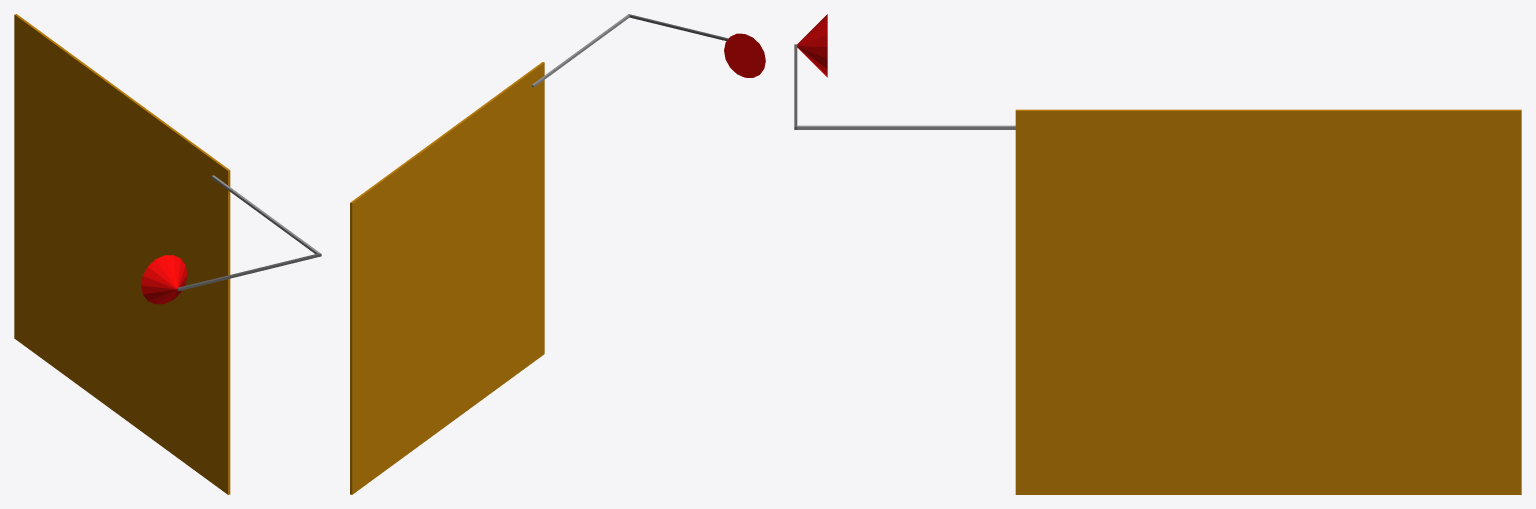
The model's file is DRC-TESTBED-SHOWER-BODYSET9_link_mesh.dae.
The picture shows the model from 3 angles, left to right: view 1: azimuth 30°, elevation 25°; view 2: azimuth 150°, elevation 25°; view 3: azimuth 270°, elevation 25°; orthographic projection. The views are drawn at different scales.
Visible parts, largest first — view 1: DRC-TESTBED-SHOWER-BODYSET9_link (×4); view 2: DRC-TESTBED-SHOWER-BODYSET9_link (×3); view 3: DRC-TESTBED-SHOWER-BODYSET9_link (×3).
Boxes of the visible parts, x1=… form: DRC-TESTBED-SHOWER-BODYSET9_link (×4): x1=14, y1=14, x2=321, y2=494; DRC-TESTBED-SHOWER-BODYSET9_link (×3): x1=350, y1=15, x2=765, y2=494; DRC-TESTBED-SHOWER-BODYSET9_link (×3): x1=796, y1=14, x2=1521, y2=494.
Bounding box in the file's own units: 0.725 × 1.37 × 2.29.
